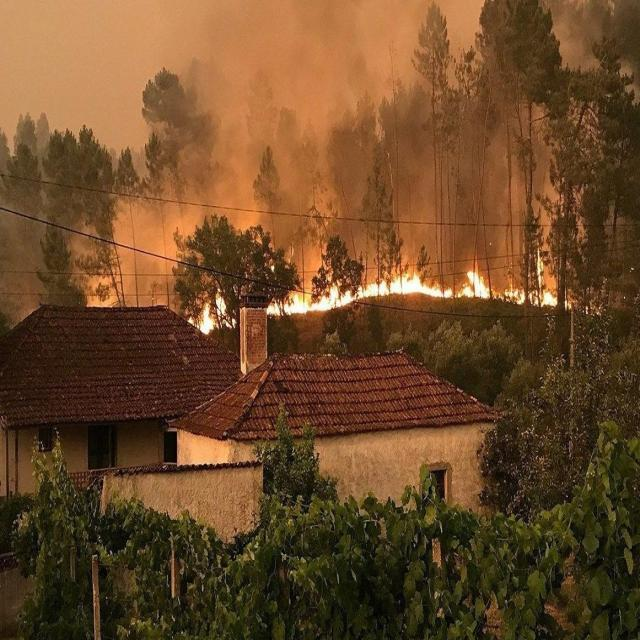Fire: (268, 238, 571, 316), (186, 286, 238, 336)
Smoke: (0, 0, 640, 324)
